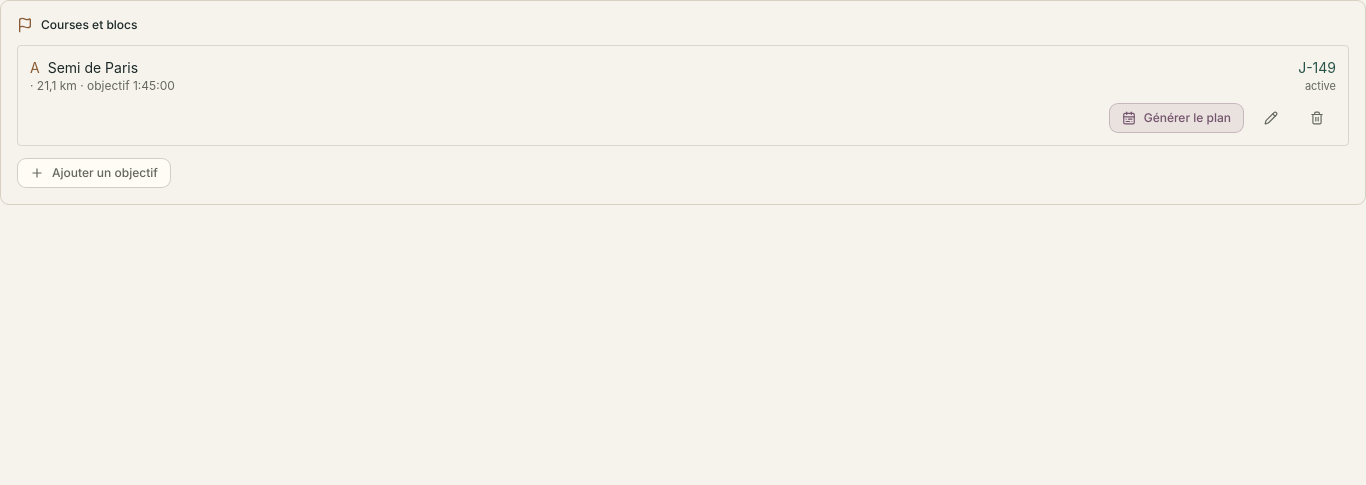
it: shows a race edit’s errors in French under the form
Click the button named "Modifier Semi de Paris". click: point(1271, 118)
box: left=1252, top=102, right=1290, bottom=132
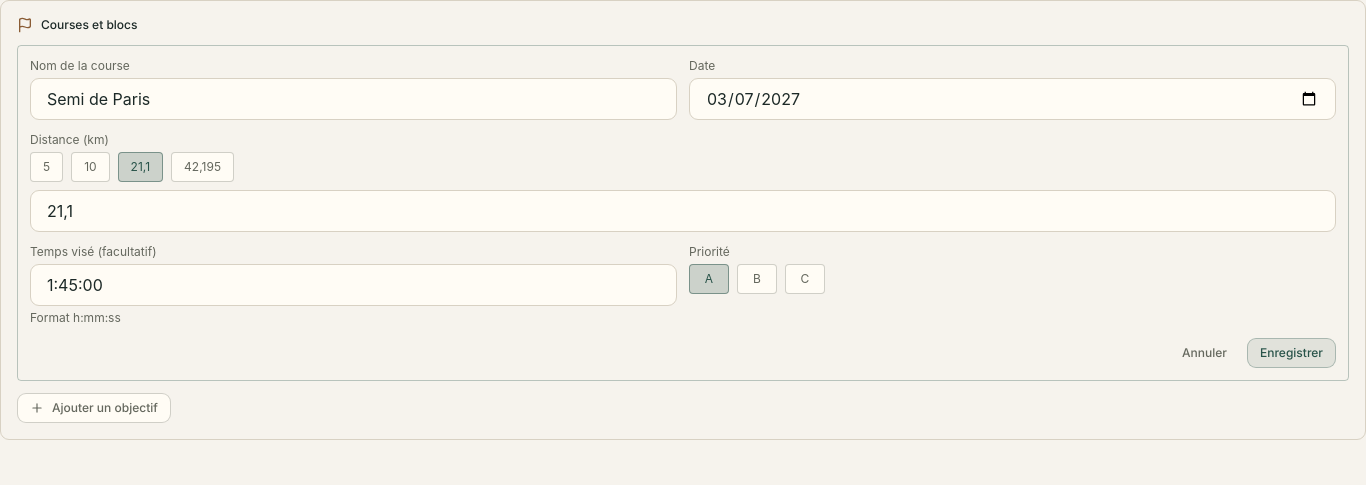
Replace the text in the field named "Distance libre en km" with "300". click: point(683, 211)
box: left=30, top=190, right=1336, bottom=232
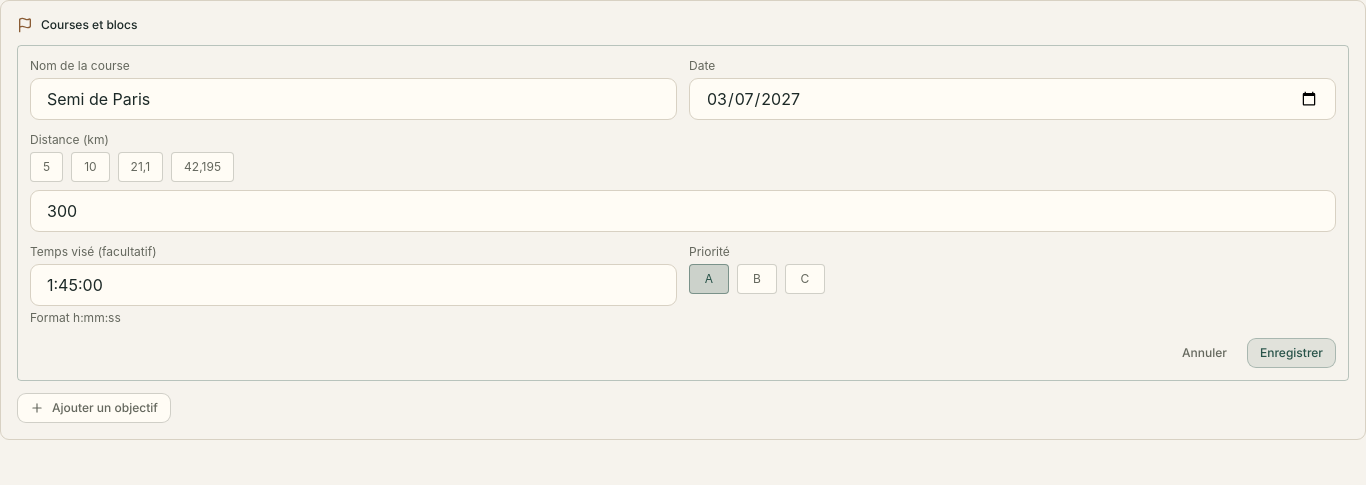
Click the button "Enregistrer". click: point(1292, 353)
box: left=1247, top=338, right=1336, bottom=368
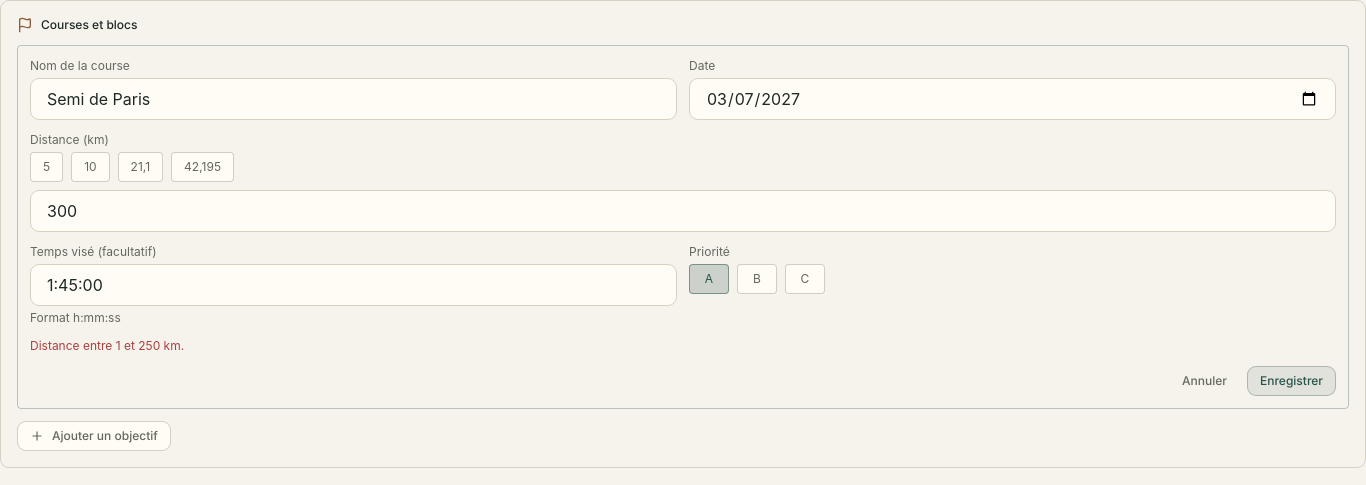
Expected: the message reads "Distance entre 1 et 250 km.", left=30, top=338, right=184, bottom=353
Replace the text in the field named "Distance libre en km" with "15". click: point(683, 211)
box: left=30, top=190, right=1336, bottom=232
Type "1:4" into the field with placeholder "1:45:00" below "Temps visé (facultatif)". click: point(354, 285)
box: left=30, top=264, right=677, bottom=306
Click the button "Enregistrer". click: point(1292, 381)
box: left=1247, top=366, right=1336, bottom=396
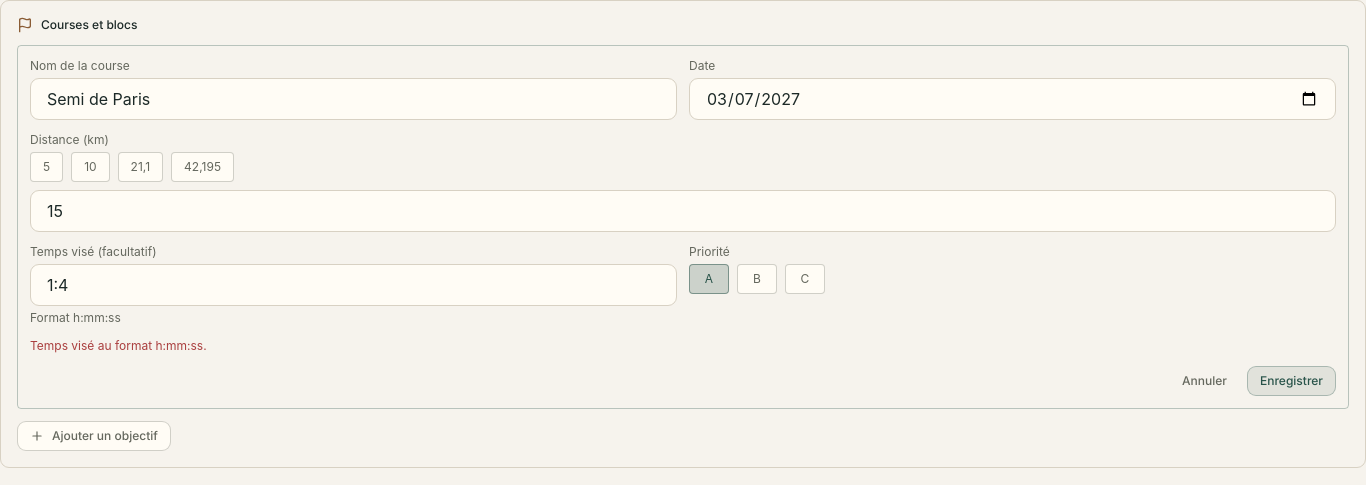
Expected: the message reads "Temps visé au format h:mm:ss.", left=30, top=338, right=207, bottom=353
Replace the text in the field with placeholder "1:45:00" below "Temps visé (facultatif)" with "1:20:00". click: point(354, 285)
box: left=30, top=264, right=677, bottom=306
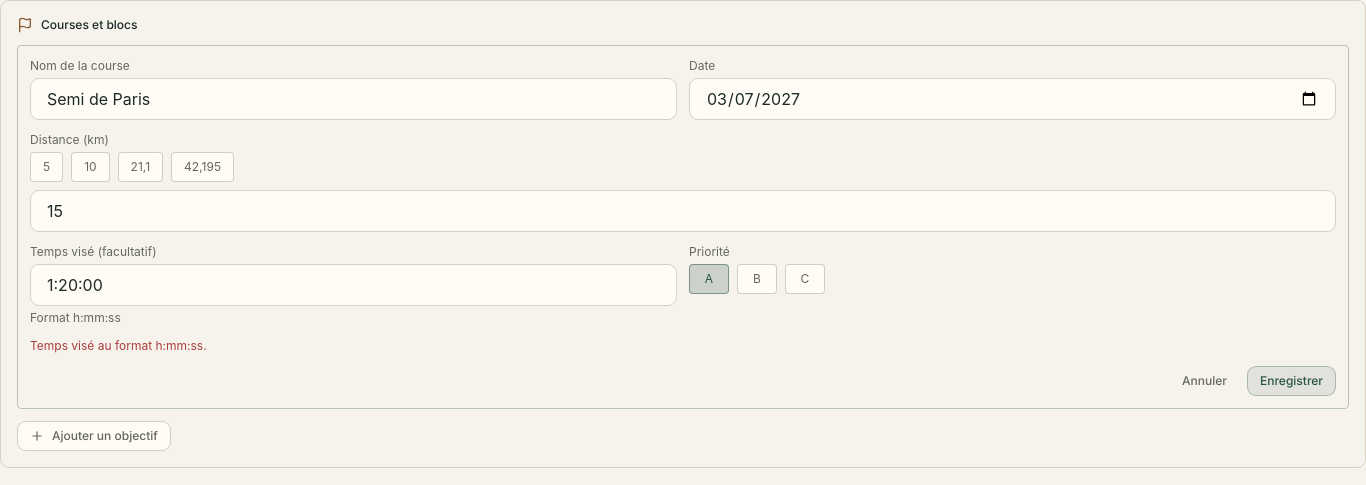
Click the button "Enregistrer". click: point(1292, 381)
box: left=1247, top=366, right=1336, bottom=396
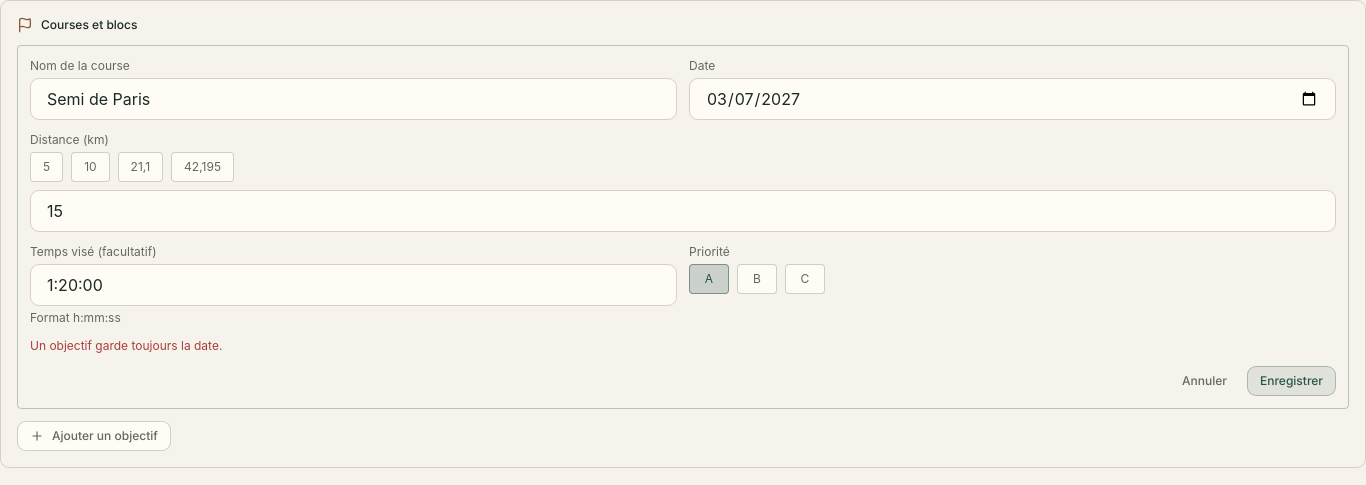
Expected: the button "Enregistrer" is shown, left=1247, top=366, right=1336, bottom=396
Expected: the message reads "Un objectif garde toujours la date.", left=30, top=338, right=222, bottom=353
